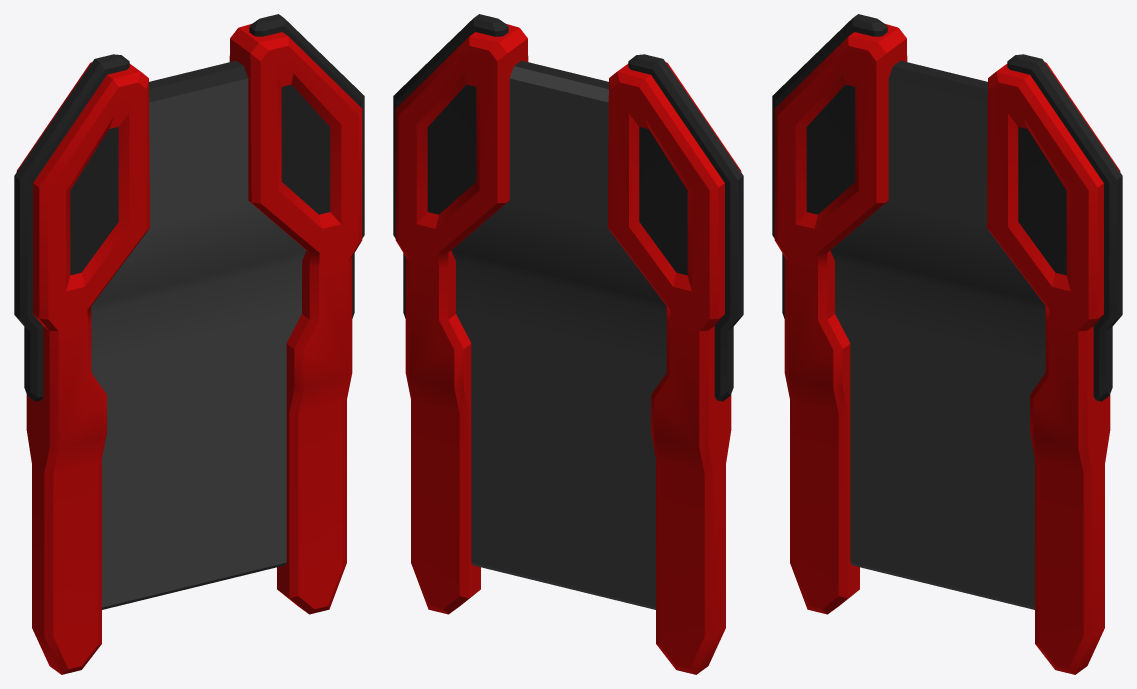
File: Keycard_Red.fbx
The picture shows the model from 3 angles, left to right: view 1: azimuth 30°, elevation 25°; view 2: azimuth 150°, elevation 25°; view 3: azimuth 330°, elevation 25°; orthographic projection.
Parts seen in each view (by area): view 1: pCube1; view 2: pCube1; view 3: pCube1.
Part boxes in pixels (<box>): pCube1: <box>14,14,364,674</box>; pCube1: <box>393,14,743,674</box>; pCube1: <box>772,14,1122,674</box>.
Bounding box in the file's own units: 53.92 × 89.55 × 7.66.
